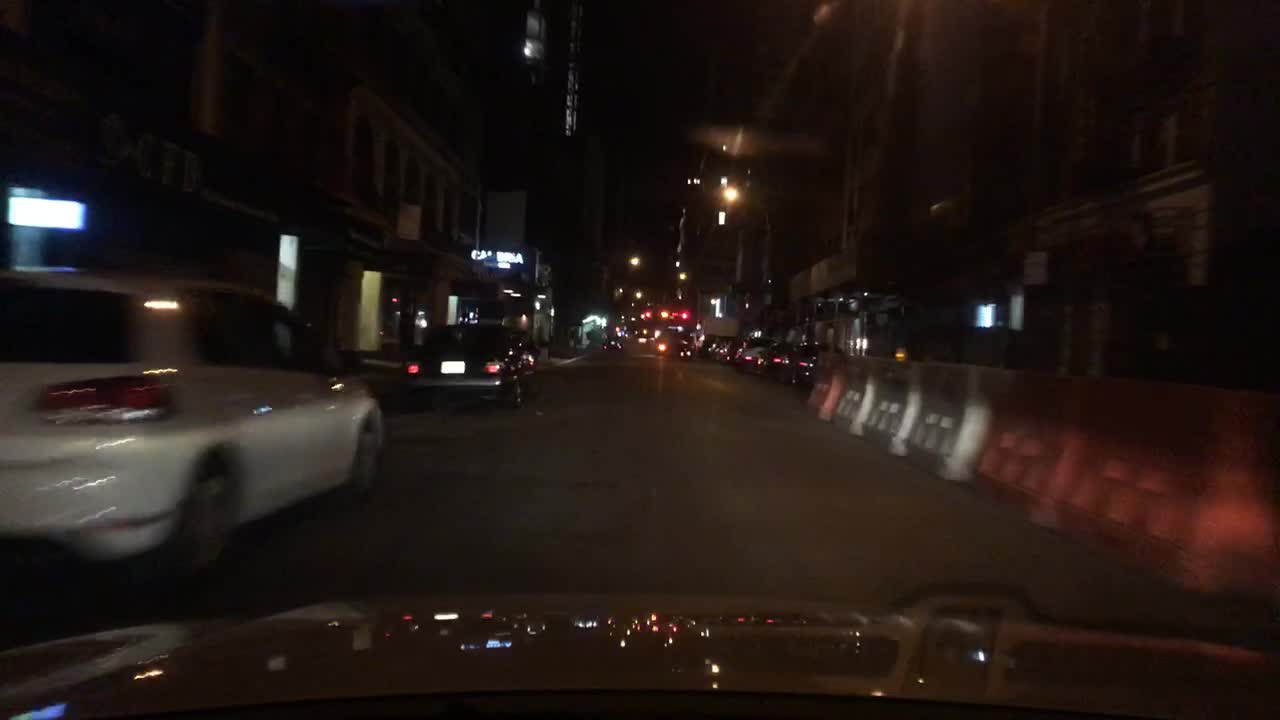car: (1, 268, 383, 577), (401, 320, 550, 409), (777, 343, 820, 387), (731, 338, 777, 373), (754, 341, 800, 374), (726, 336, 749, 366), (598, 334, 632, 352), (632, 325, 661, 345), (651, 325, 682, 341), (698, 338, 721, 359), (712, 341, 733, 362), (686, 332, 707, 346), (674, 346, 695, 359), (621, 325, 632, 343)
traffic light: (637, 310, 653, 322), (677, 310, 691, 322)
